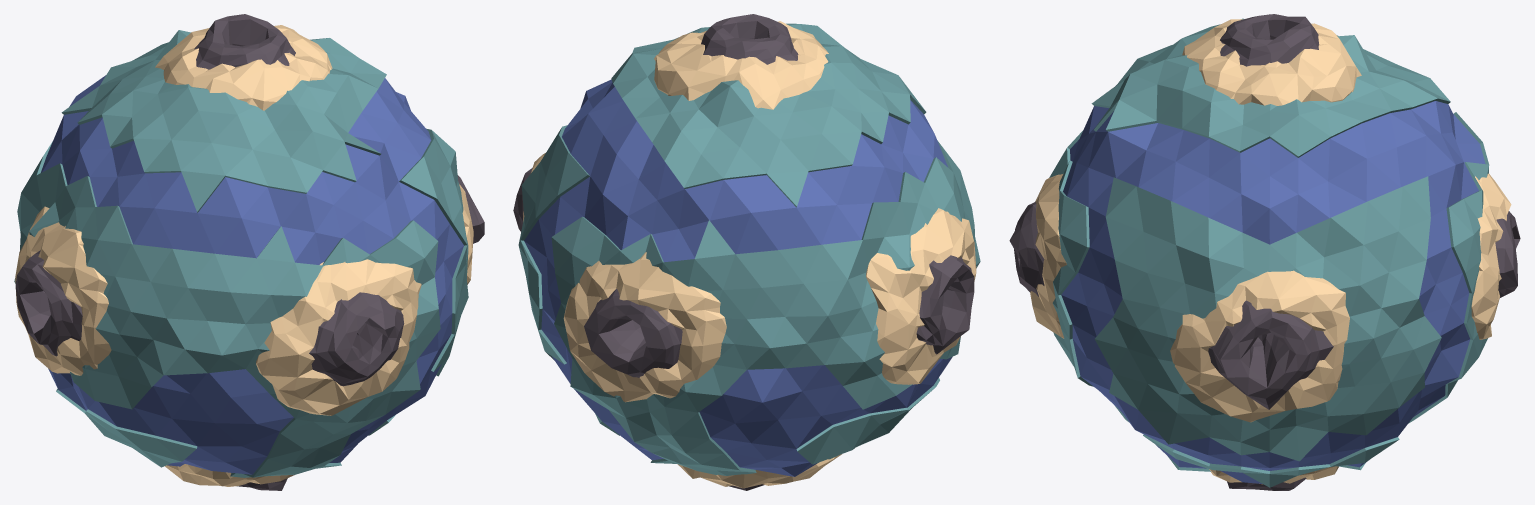
3 views of the same model, side by side, from view 1: azimuth 30°, elevation 25°; view 2: azimuth 150°, elevation 25°; view 3: azimuth 270°, elevation 25° (orthographic).
Visible parts, largest first — view 1: AO_Planet; view 2: AO_Planet; view 3: AO_Planet.
Part boxes in pixels (x1,y1,x2,y2): AO_Planet: (14,14,484,490); AO_Planet: (513,14,980,490); AO_Planet: (1009,14,1520,490).
Size of the model in its own units: 1124 by 1112 by 1123.
1 material, 1 textured.
